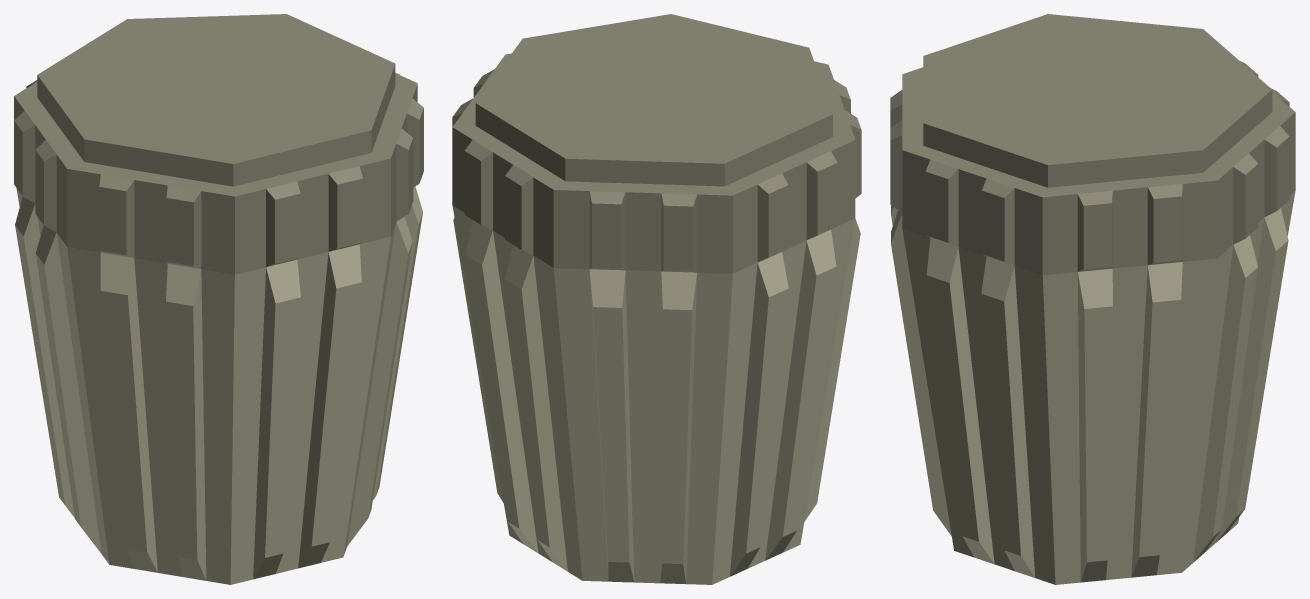
File: trashcan.fbx
3 renders of one model, left to right at view 1: azimuth 30°, elevation 25°; view 2: azimuth 150°, elevation 25°; view 3: azimuth 270°, elevation 25°, orthographic.
Visible parts, largest first — view 1: Cylinder, Cylinder.001; view 2: Cylinder, Cylinder.001; view 3: Cylinder, Cylinder.001.
Part boxes in pixels (bbox=[...]): Cylinder: bbox=[15, 186, 422, 584]; Cylinder.001: bbox=[14, 14, 423, 274]; Cylinder: bbox=[452, 205, 860, 584]; Cylinder.001: bbox=[452, 14, 861, 273]; Cylinder: bbox=[891, 190, 1295, 584]; Cylinder.001: bbox=[890, 14, 1295, 275].
Bounding box in the file's own units: 220 × 223 × 260.
